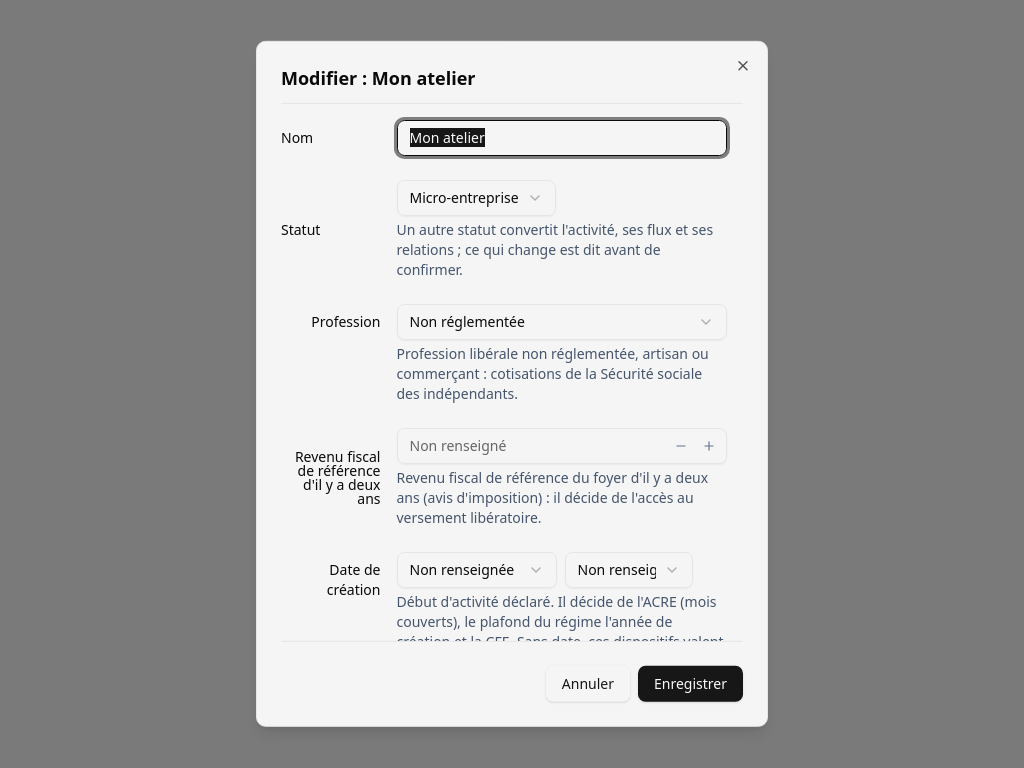
Test case: profession d'une activité BNC › « Non réglementée » en tête et par défaut, puis la santé (CARPIMKO), la CIPAV et « Autre profession réglementée »
What coordinates should you click on to do the following:
click the dropdown named "Profession"
I would click on:
 (467, 321)
Its box is [396, 304, 727, 340].
(page scrolled)
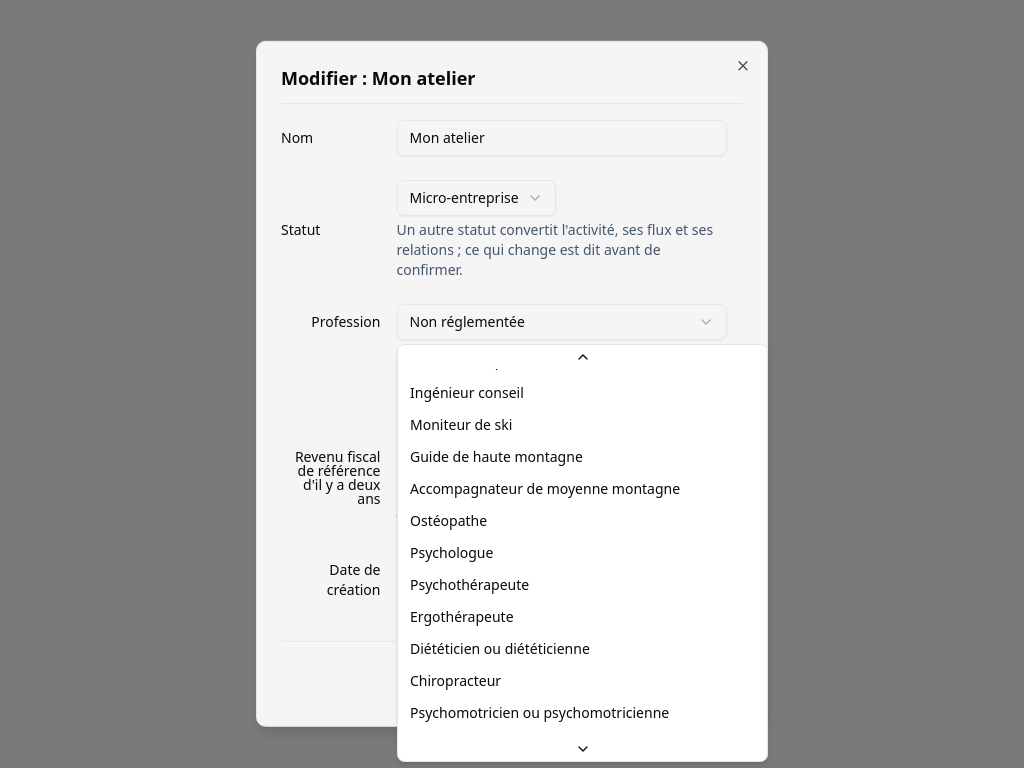
Expected: the text "Non réglementée" is shown, [410, 312, 525, 332]
Now the option "Psychologue" is shown, box [410, 543, 493, 562]
